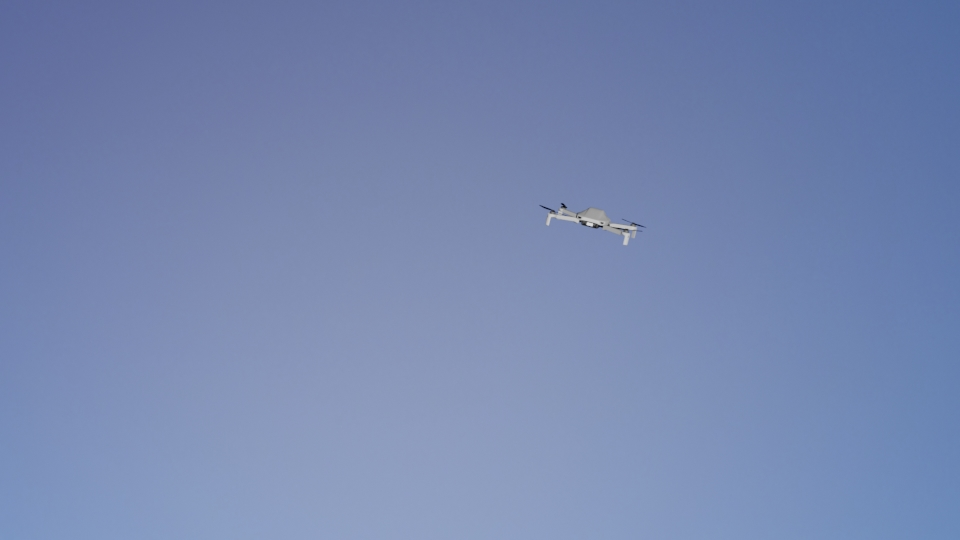drone: (538, 198, 648, 242)
